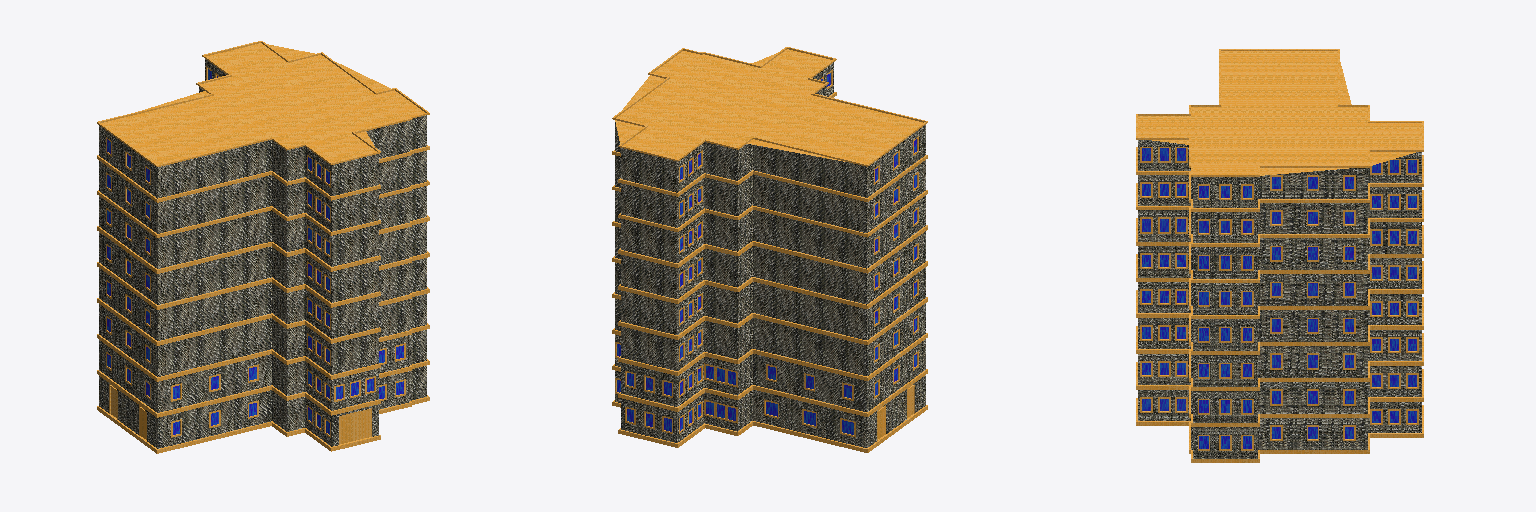
The picture shows the model from 3 angles: view 1: azimuth 30°, elevation 25°; view 2: azimuth 150°, elevation 25°; view 3: azimuth 270°, elevation 25°; orthographic projection.
Visible parts, largest first — view 1: building_003; view 2: building_003; view 3: building_003.
Part boxes in pixels (bbox=[...]): building_003: bbox=[97, 41, 429, 453]; building_003: bbox=[612, 47, 927, 452]; building_003: bbox=[1136, 49, 1423, 462].
Bounding box in the file's own units: 16.88 × 17.94 × 16.22.
Materials: 4 (3 with a texture image).